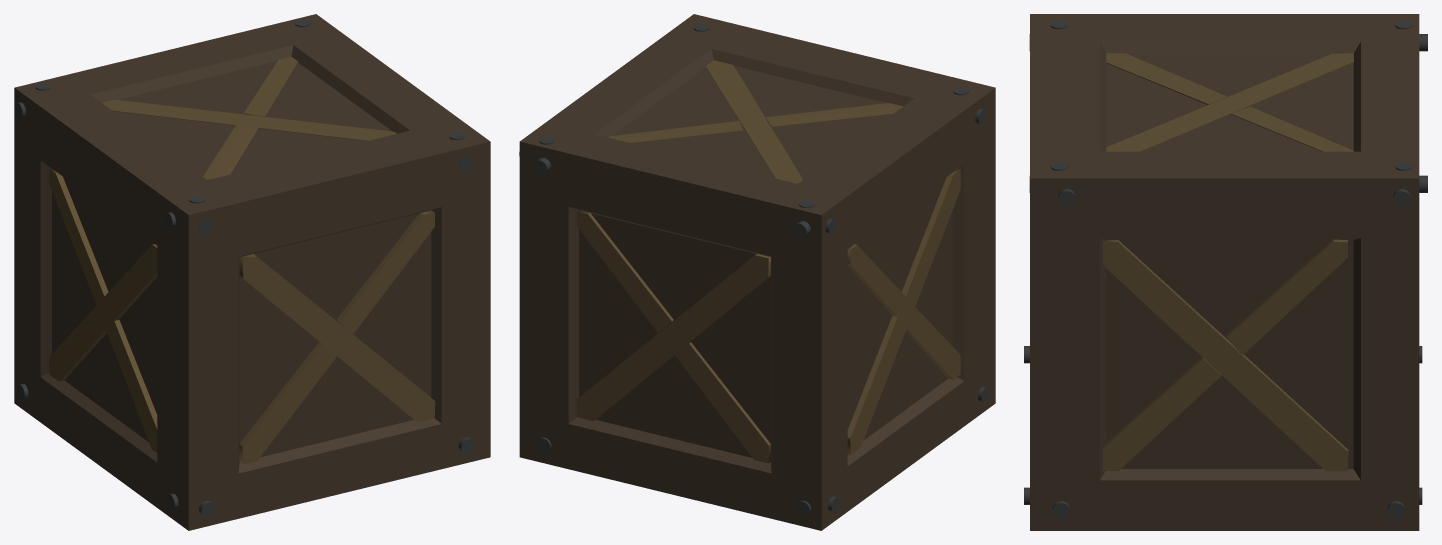
Rendered from crate_2.fbx.
3 renders of one model, left to right at view 1: azimuth 30°, elevation 25°; view 2: azimuth 150°, elevation 25°; view 3: azimuth 270°, elevation 25°, orthographic. The views are drawn at different scales.
Parts seen in each view (by area): view 1: crate_crate; view 2: crate_crate; view 3: crate_crate.
Part boxes in pixels (bbox=[...]): crate_crate: bbox=[14, 14, 490, 530]; crate_crate: bbox=[519, 14, 995, 530]; crate_crate: bbox=[1024, 14, 1427, 530].
Size of the model in its own units: 4 by 3.94 by 4.04.
